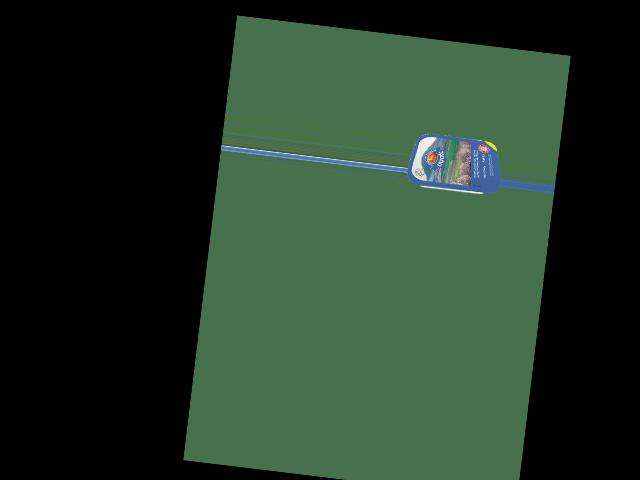cheese: (411, 129, 495, 201)
